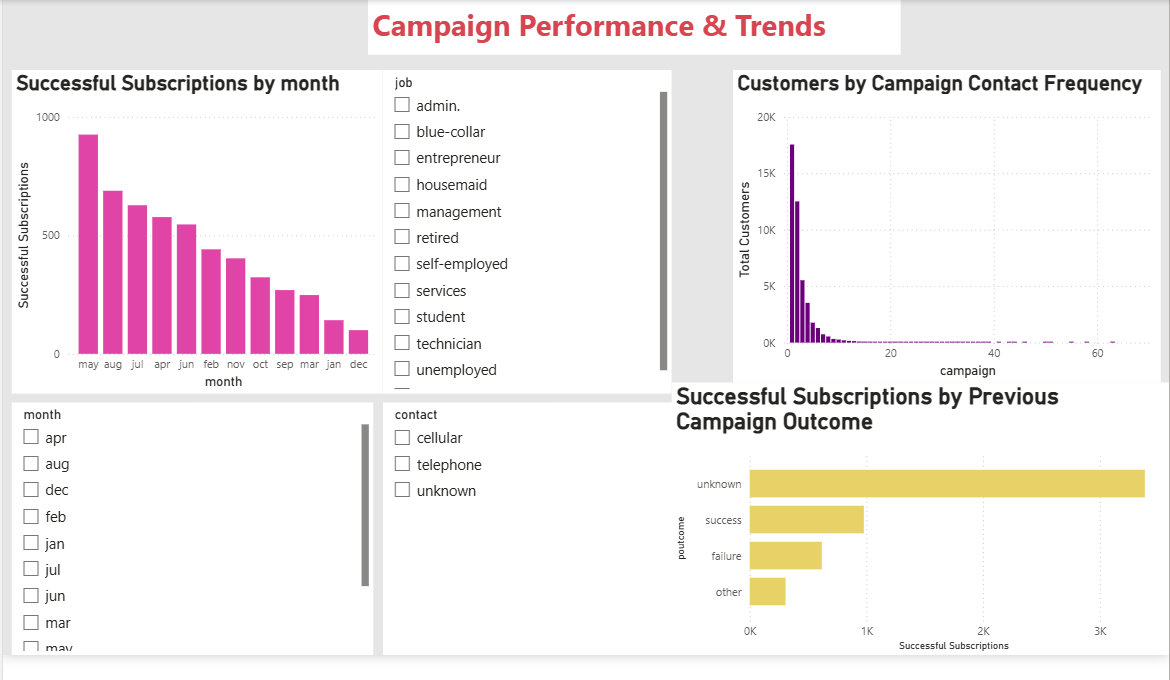

The page's visual inventory and layout, read from the dashboard file:
{"tool":"powerbi","page":{"name":"Campaign Analysis","canvas":[1280,720],"ordinal":1},"visuals":[{"type":"clusteredColumnChart","fields":{"Category":["bank-full.month"],"Y":["bank-full.Successful Subscriptions"]},"box":[9.6,76.8,407.5,355.4],"z":0},{"type":"slicer","fields":{"Values":["bank-full.month"]},"box":[10,442,397,278],"z":1},{"type":"slicer","fields":{"Values":["bank-full.job"]},"box":[417.2,76.8,317,355.4],"z":2},{"type":"slicer","fields":{"Values":["bank-full.contact"]},"box":[417.2,441.9,374.6,278.6],"z":3},{"type":"clusteredBarChart","title":"Successful Subscriptions by Previous Campaign Outcome","fields":{"Category":["bank-full.poutcome"],"Y":["bank-full.Successful Subscriptions"]},"box":[734.1,419.9,546.1,300.5],"z":4},{"type":"clusteredColumnChart","title":"Customers by Campaign Contact Frequency","fields":{"Category":["bank-full.campaign"],"Y":["bank-full.Total Customers"]},"box":[801.4,76.8,469.3,343.1],"z":5},{"type":"textbox","box":[400.7,0,584.6,60.4],"z":8}]}

Visuals, with their boxes on the page's 1280x720 design canvas (x1, y1, x2, y2). These are canvas units, not pixel positions in the 1170x680 screenshot, which may show the page scaled, cropped or inside an application window:
clusteredColumnChart - bank-full.month x bank-full.Successful Subscriptions: box(10, 77, 417, 432)
slicer - bank-full.month: box(10, 442, 407, 720)
slicer - bank-full.job: box(417, 77, 734, 432)
slicer - bank-full.contact: box(417, 442, 792, 720)
"Successful Subscriptions by Previous Campaign Outcome" clusteredBarChart: box(734, 420, 1280, 720)
"Customers by Campaign Contact Frequency" clusteredColumnChart: box(801, 77, 1271, 420)
textbox: box(401, 0, 985, 60)
